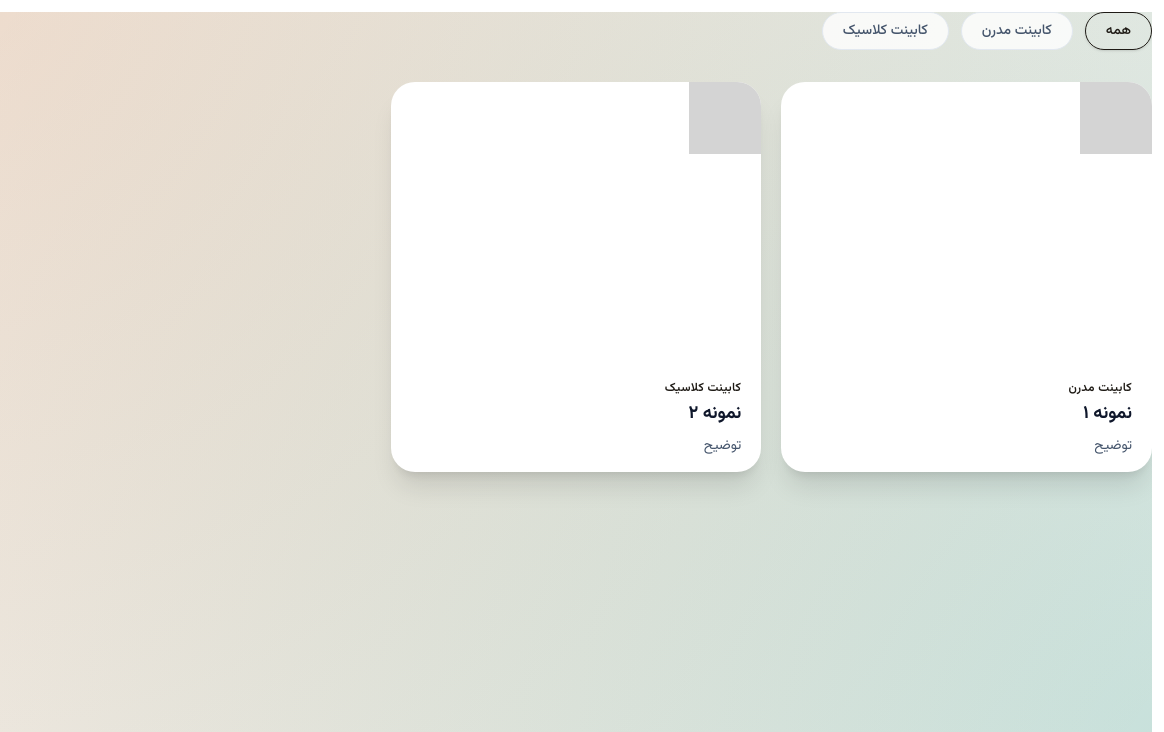
Test: GalleryGrid › filters by category
Check: the heading "نمونه ۱" is shown, box [1083,400,1132,428]
Step 1. Click the button "کابینت کلاسیک" → point(885, 31), box [822,12,949,50]
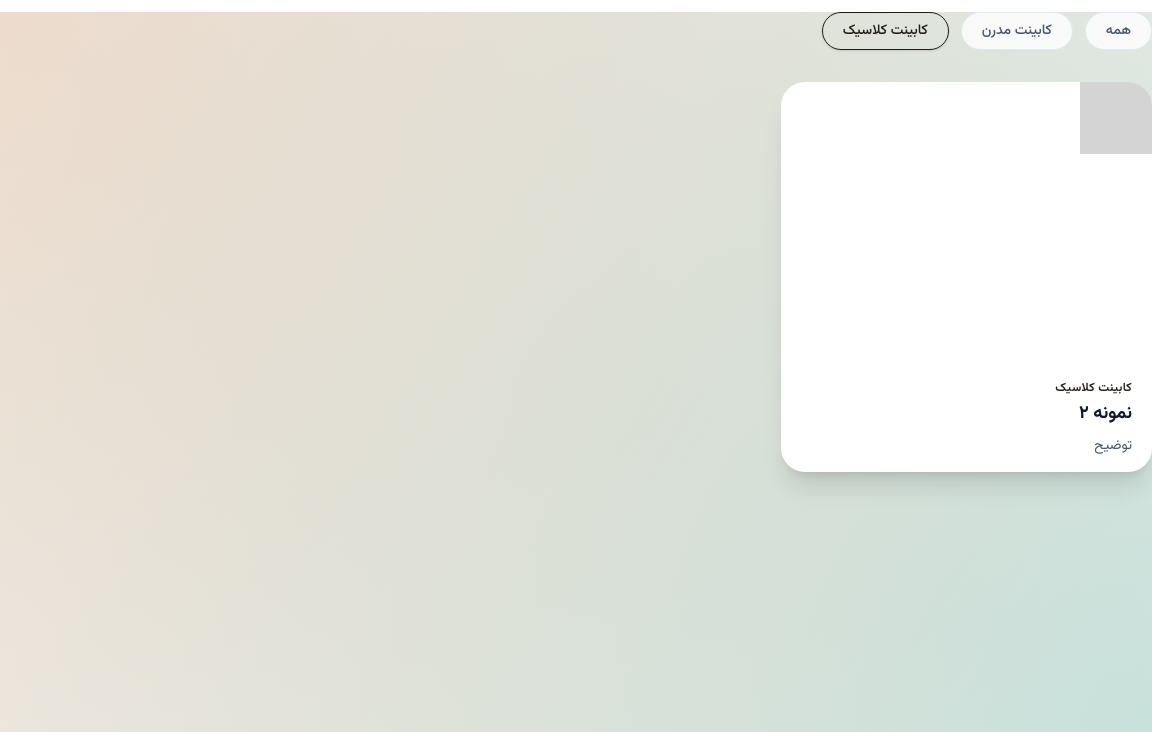
Check: the heading "نمونه ۲" is shown, box [1079,400,1132,428]
Check: the button "نمونه ۱" is gone
